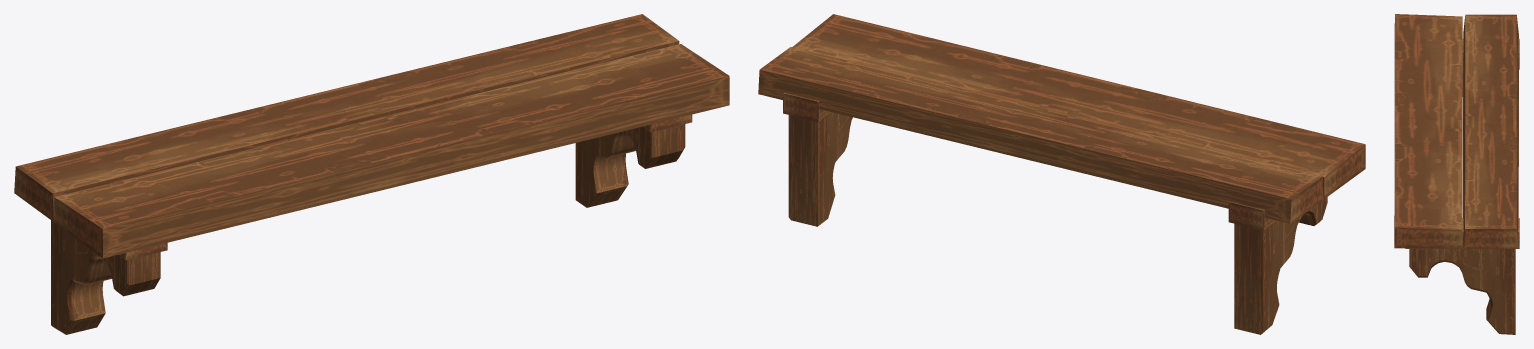
The model's file is shelf-simple.glb.
3 renders of one model, left to right at view 1: azimuth 30°, elevation 25°; view 2: azimuth 150°, elevation 25°; view 3: azimuth 270°, elevation 25°, orthographic. The views are drawn at different scales.
Visible parts, largest first — view 1: Shelf_Simple; view 2: Shelf_Simple; view 3: Shelf_Simple.
Boxes of the visible parts, left/top/right/bottom form: Shelf_Simple: left=14, top=14, right=729, bottom=334; Shelf_Simple: left=758, top=14, right=1365, bottom=334; Shelf_Simple: left=1394, top=14, right=1519, bottom=334.
Bounding box in the file's own units: 1.18 × 0.3087 × 0.2923.
1 material, 1 textured.
